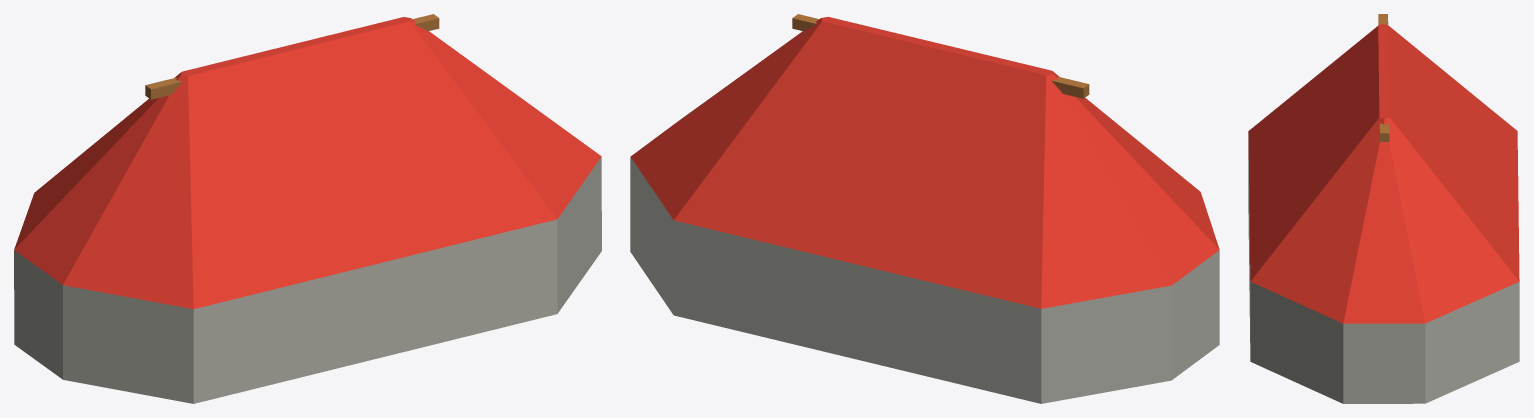
The picture shows the model from 3 angles, left to right: view 1: azimuth 30°, elevation 25°; view 2: azimuth 150°, elevation 25°; view 3: azimuth 270°, elevation 25°; orthographic projection. The views are drawn at different scales.
Parts seen in each view (by area): view 1: ZP_02; view 2: ZP_02; view 3: ZP_02.
Part boxes in pixels (x1,y1,x2,y2): ZP_02: [14, 14, 601, 403]; ZP_02: [630, 14, 1219, 403]; ZP_02: [1248, 14, 1519, 403].
Bounding box in the file's own units: 3.5 × 1.59 × 1.8.
